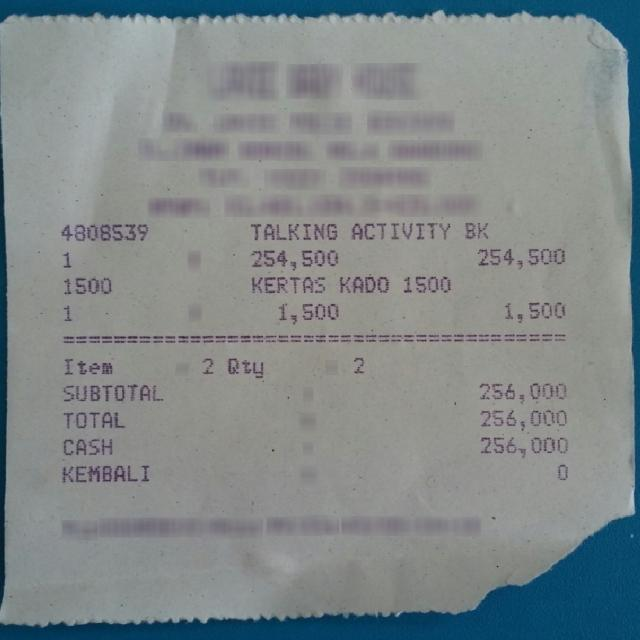kertas: (2, 15, 633, 625)
